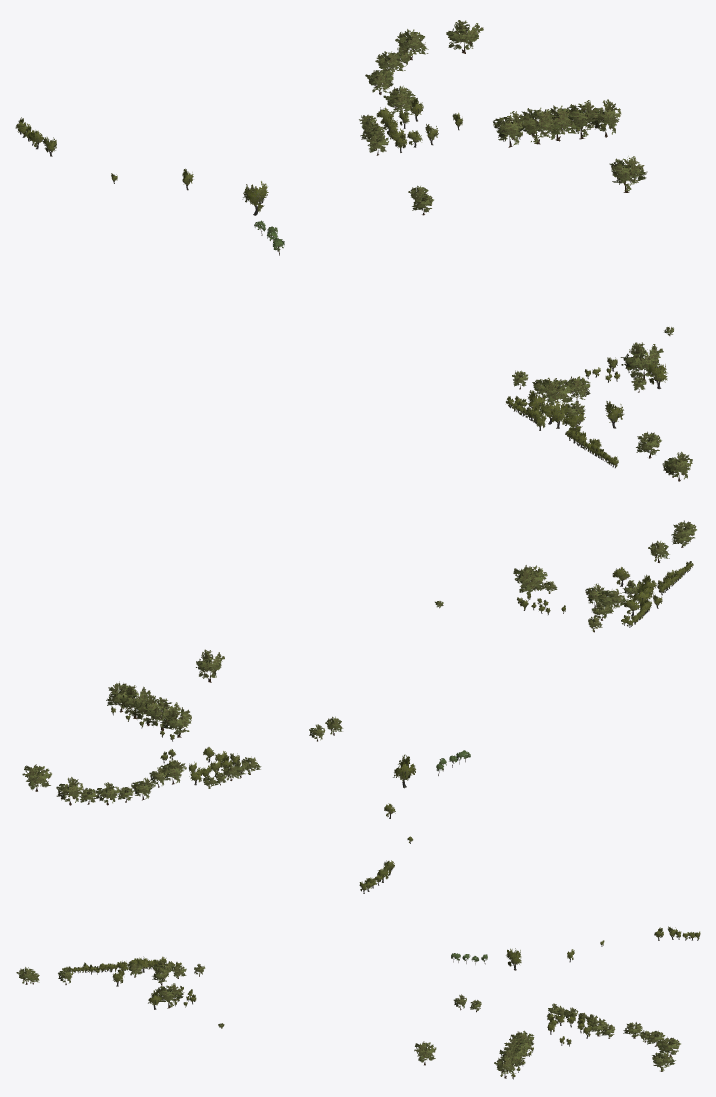
3 views of the same model, one above another, from view 1: azimuth 30°, elevation 25°; view 2: azimuth 150°, elevation 25°; view 3: azimuth 270°, elevation 25° (orthographic). The views are drawn at different scales.
Parts seen in each view (by area): view 1: jacaranda_tree street foliage, island_tree_01 street foliage, island_tree_01 park bark; view 2: jacaranda_tree street foliage, island_tree_01 street foliage; view 3: jacaranda_tree street foliage, island_tree_01 street foliage, island_tree_01 park bark.
Boxes of the visible parts, box(x1,y1,x2,y2) form: jacaranda_tree street foliage: box(359, 20, 692, 479); island_tree_01 street foliage: box(15, 97, 667, 466); island_tree_01 park bark: box(20, 109, 661, 468); jacaranda_tree street foliage: box(22, 520, 696, 803); island_tree_01 street foliage: box(111, 561, 693, 891); jacaranda_tree street foliage: box(16, 959, 680, 1076); island_tree_01 street foliage: box(62, 926, 700, 1078); island_tree_01 park bark: box(71, 932, 699, 1079).
Size of the model in its own units: 270 by 21.05 by 536.
6 materials, 6 textured.
